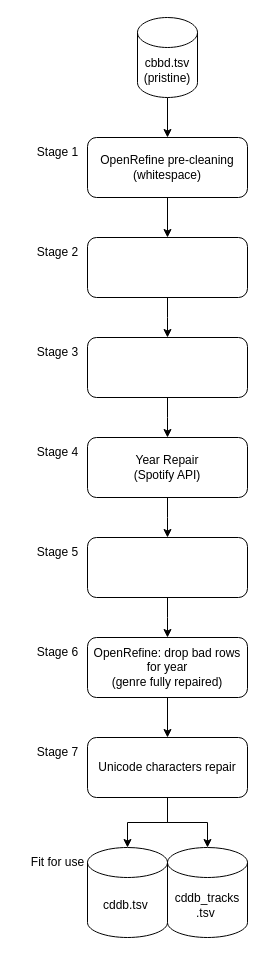
Image size: 265x955. Some labels were removed from this diagram. The centre of each missing label's shape, as x and y in pixels:
Category - Genre (Repair by observation): the point at 167,367
Genre Repair (Spotify API): the point at 167,567
Tracks Split Into seperate tsv: the point at 167,267
